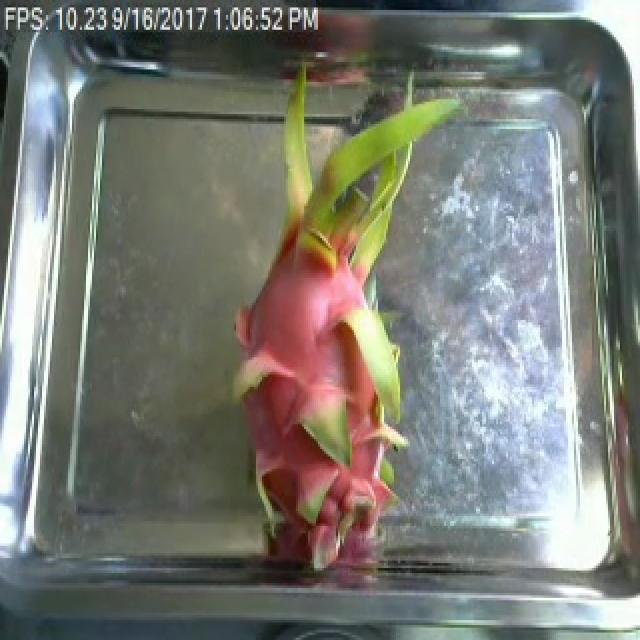fruit: (212, 164, 454, 585)
